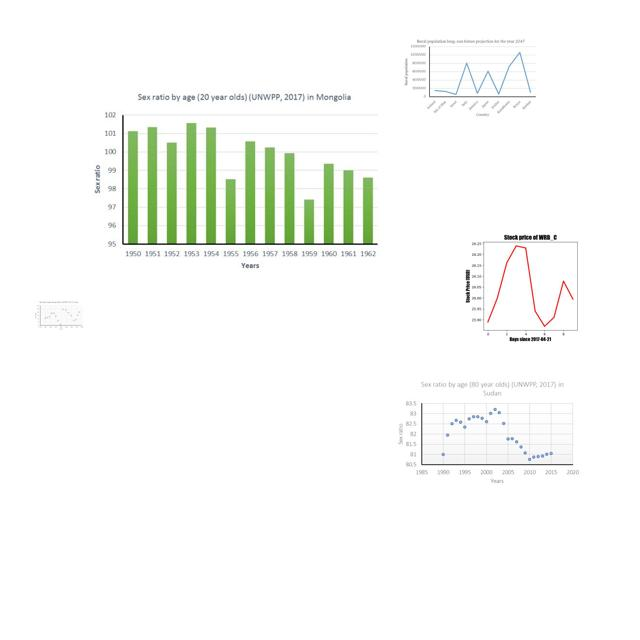Graph: (84, 90, 384, 274), (393, 379, 582, 489), (452, 228, 605, 343), (403, 38, 537, 117), (34, 301, 84, 330)
